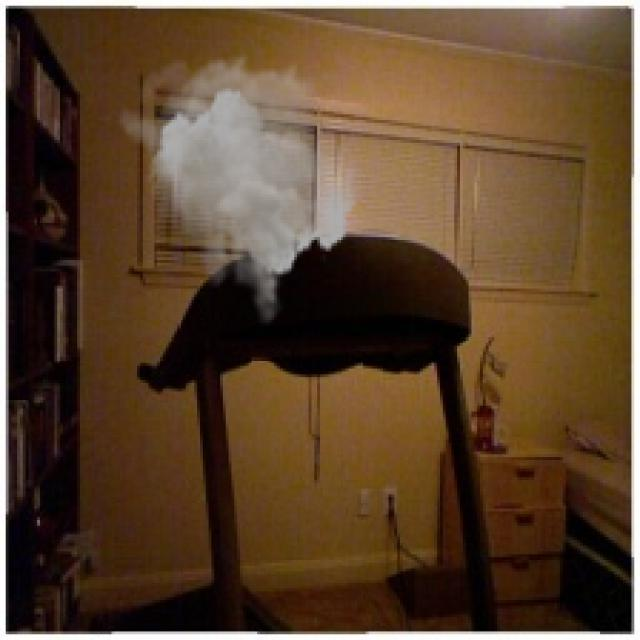smoke: (117, 52, 360, 328)
